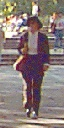person: (17, 17, 50, 115)
